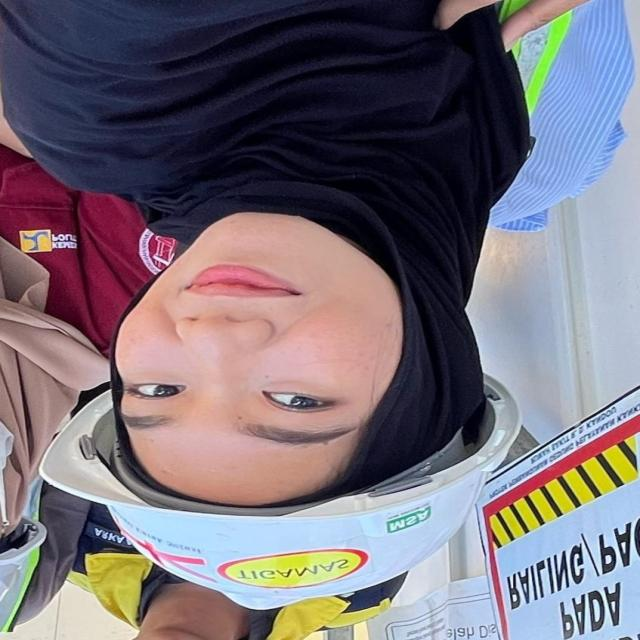safetyhelmet: (36, 354, 536, 609)
